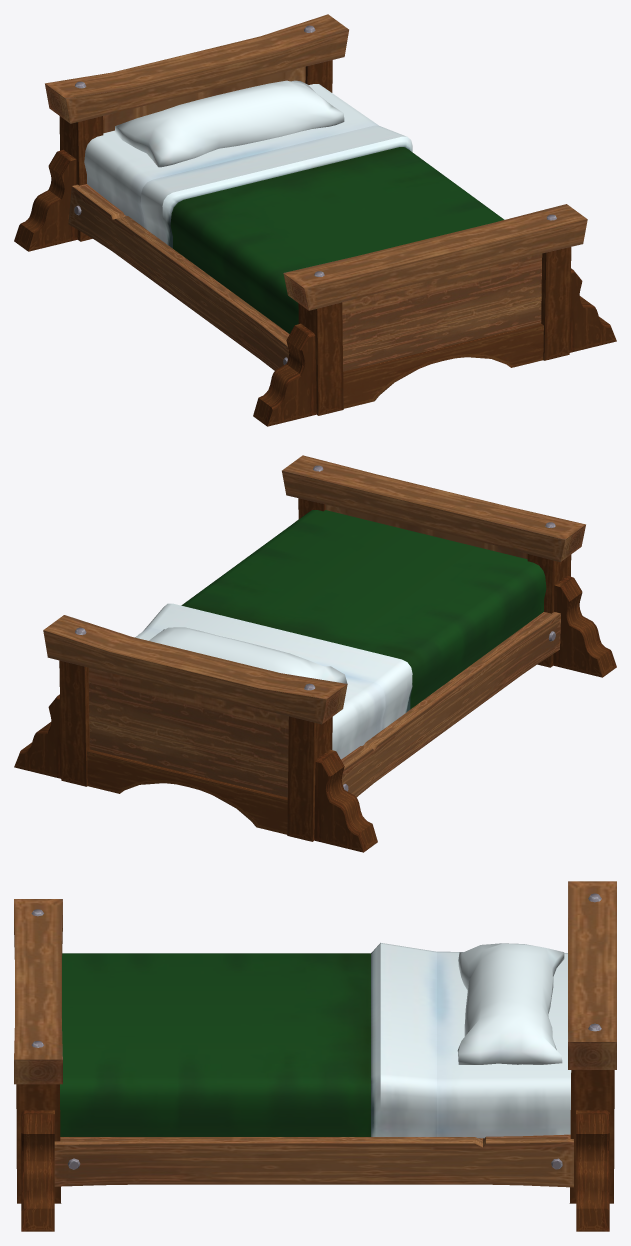
File: Bed_Twin2.gltf
3 views of the same model, one above another, from view 1: azimuth 30°, elevation 25°; view 2: azimuth 150°, elevation 25°; view 3: azimuth 270°, elevation 25° (orthographic). The views are drawn at different scales.
Visible parts, largest first — view 1: Bed_Twin2; view 2: Bed_Twin2; view 3: Bed_Twin2.
Part boxes in pixels (bbox=[...]): Bed_Twin2: bbox=[14, 14, 616, 426]; Bed_Twin2: bbox=[14, 455, 616, 852]; Bed_Twin2: bbox=[14, 881, 616, 1231].
Size of the model in its own units: 1.88 by 0.7596 by 2.41.
3 materials, 3 textured.
